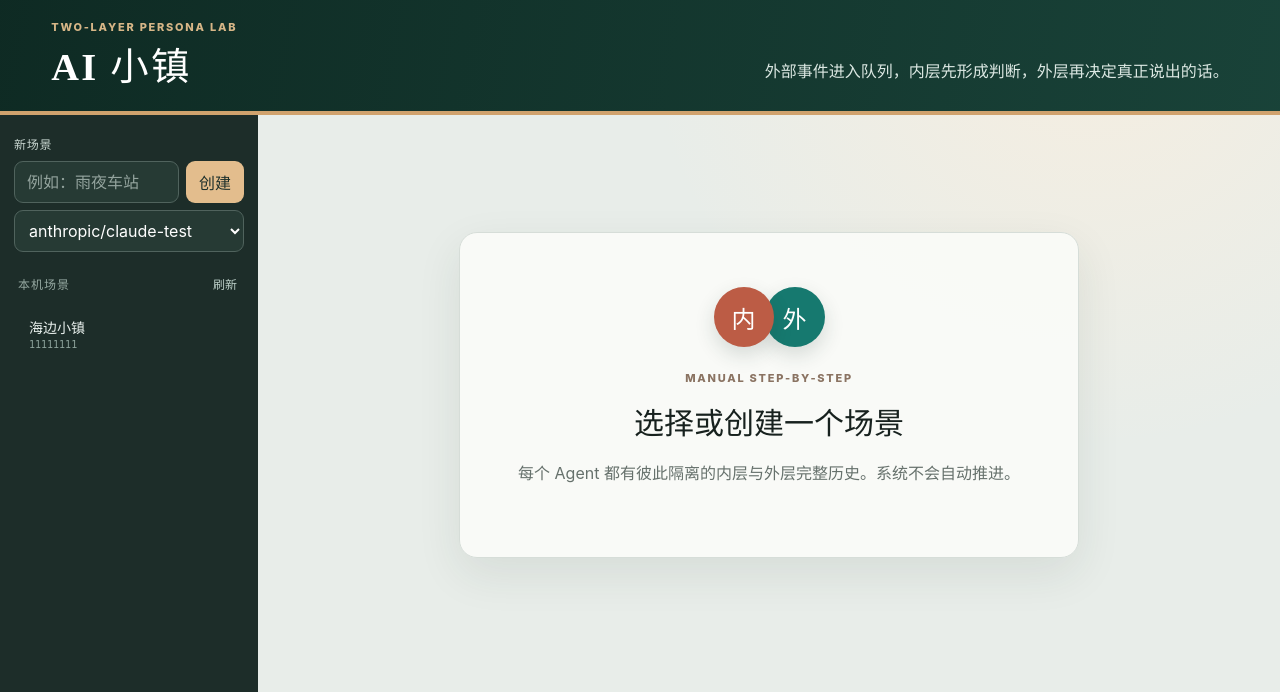
Test: App › keeps editing available while a bound model is unavailable
Click the button "海边小镇 11111111": (113, 334) [19, 308, 207, 359]
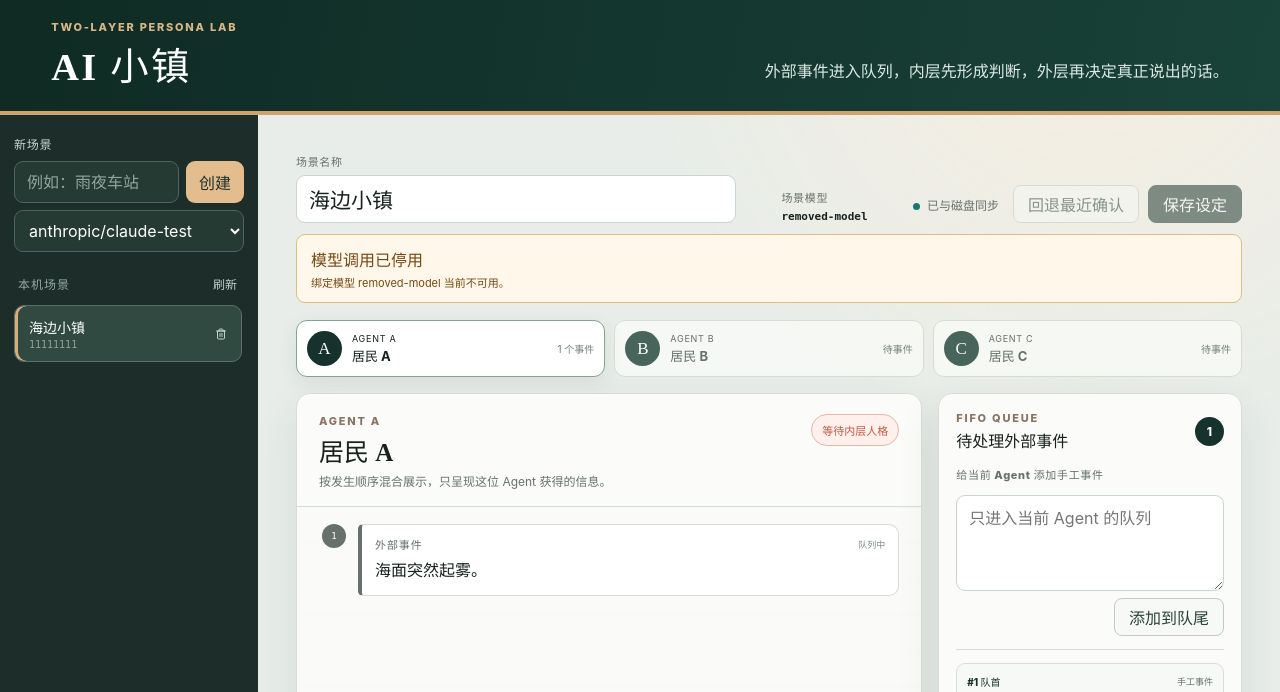
Expected: the text "removed-model 当前不可用" is shown, [311, 276, 510, 290]
Expected: the button "添加到队尾" is enabled, [1114, 598, 1224, 636]
